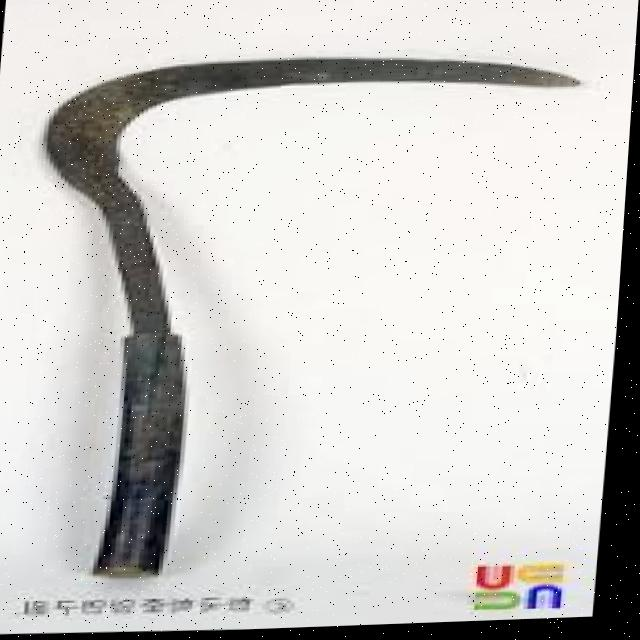sickle: (0, 29, 609, 640)
